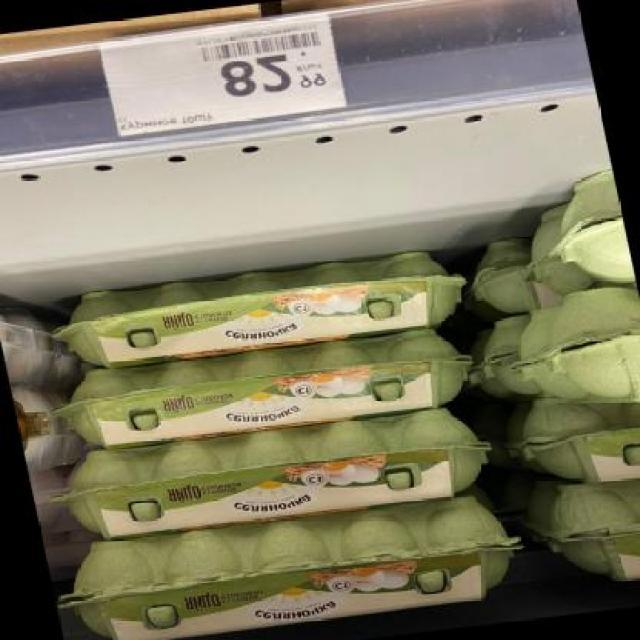Egg: (44, 495, 534, 639), (48, 408, 500, 545), (47, 242, 476, 376), (53, 324, 482, 458), (512, 288, 640, 421), (527, 465, 639, 598), (509, 392, 640, 496)
